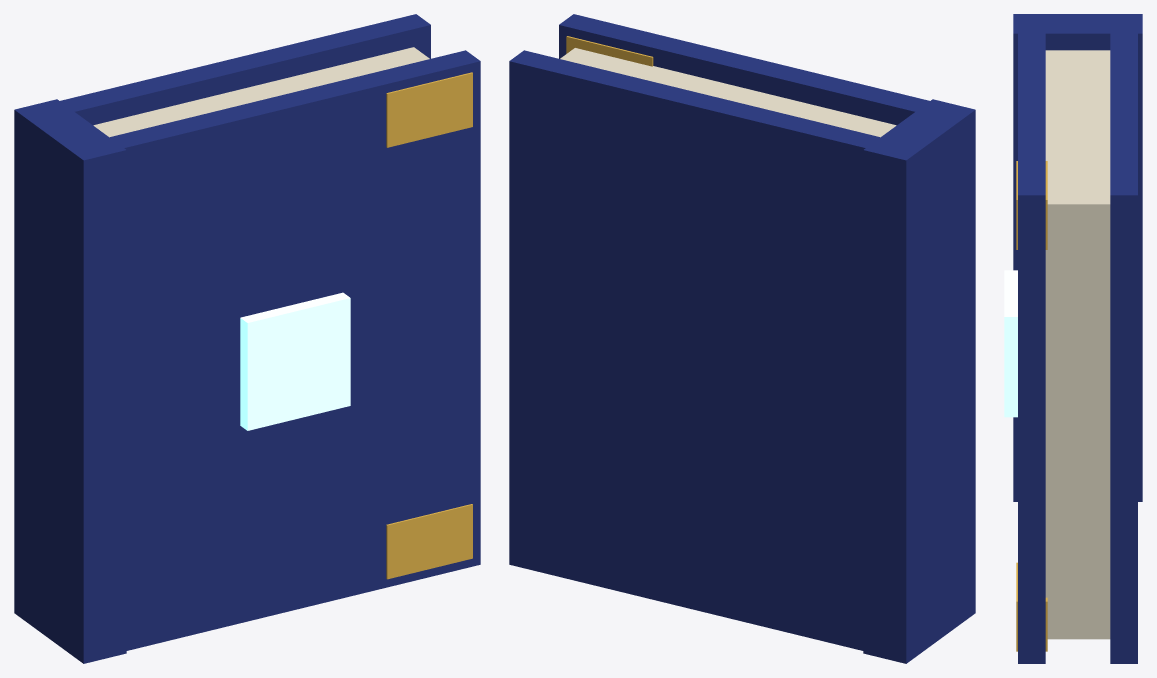
The model's file is offhand_spellbook_t2.glb.
The picture shows the model from 3 angles, left to right: view 1: azimuth 30°, elevation 25°; view 2: azimuth 150°, elevation 25°; view 3: azimuth 270°, elevation 25°; orthographic projection. The views are drawn at different scales.
Parts seen in each view (by area): view 1: bookCover_bookCover2, item_bookCover2, bookCover_bookRune, bookCover_bookTrim2, bookPages_pages; view 2: item_bookCover2, bookCover_bookCover2, bookPages_pages, bookCover_bookTrim2; view 3: bookPages_pages, item_bookCover2, bookCover_bookCover2, bookCover_bookRune, bookCover_bookTrim2.
Boxes of the visible parts, x1,y1,x2,y2 form: bookCover_bookCover2: [88, 50, 480, 650]; item_bookCover2: [14, 14, 430, 663]; bookCover_bookRune: [240, 292, 350, 430]; bookCover_bookTrim2: [386, 72, 472, 579]; bookPages_pages: [93, 47, 429, 137]; item_bookCover2: [509, 50, 975, 663]; bookCover_bookCover2: [559, 14, 951, 125]; bookPages_pages: [560, 48, 896, 137]; bookCover_bookTrim2: [566, 36, 653, 66]; bookPages_pages: [1045, 50, 1110, 639]; item_bookCover2: [1013, 14, 1142, 663]; bookCover_bookCover2: [1018, 24, 1045, 663]; bookCover_bookRune: [1004, 270, 1017, 417]; bookCover_bookTrim2: [1016, 161, 1047, 651].
Bounding box in the file's own units: 0.279 × 0.336 × 0.09.
